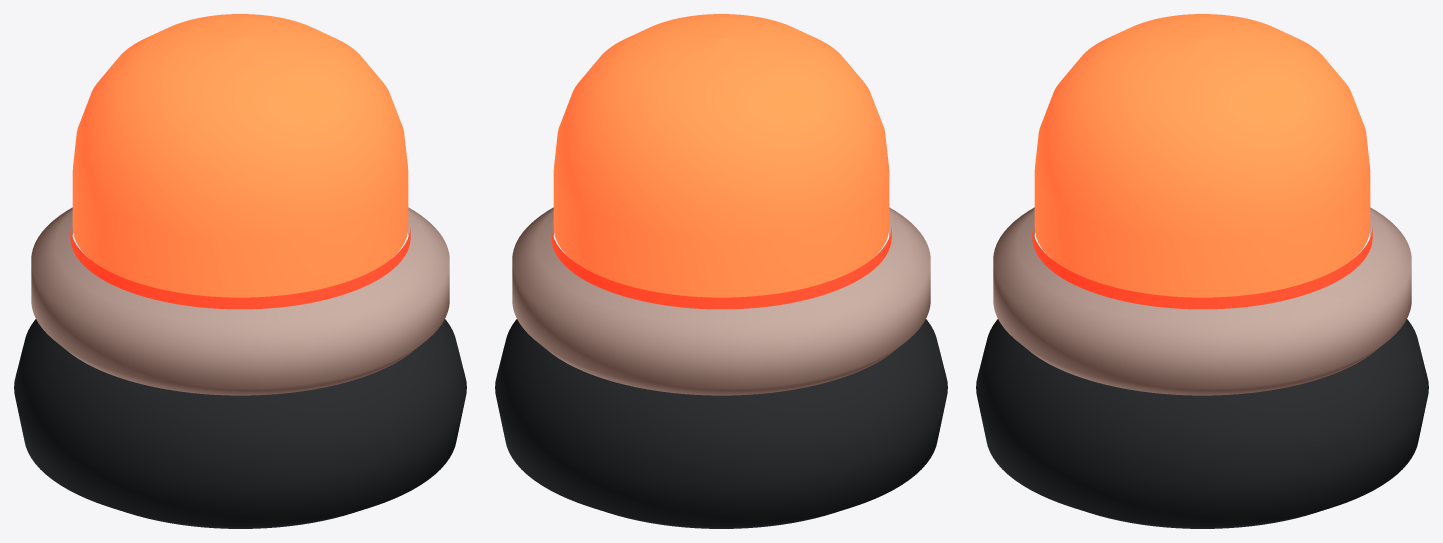
The model's file is BigRedButtonGlowLevel29.glb.
3 views of the same model, side by side, from view 1: azimuth 30°, elevation 25°; view 2: azimuth 150°, elevation 25°; view 3: azimuth 270°, elevation 25° (orthographic).
Parts seen in each view (by area): view 1: button, button_base, metal_bezel, cap_side_shadow; view 2: button, button_base, metal_bezel, cap_side_shadow; view 3: button, button_base, metal_bezel, cap_side_shadow.
Part boxes in pixels (box(x1,y1,x2,y2)): button: box(72, 14, 408, 297); button_base: box(14, 319, 466, 528); metal_bezel: box(31, 207, 449, 395); cap_side_shadow: box(70, 228, 410, 309); button: box(553, 14, 889, 297); button_base: box(495, 319, 947, 528); metal_bezel: box(512, 207, 930, 395); cap_side_shadow: box(551, 228, 891, 309); button: box(1034, 14, 1370, 297); button_base: box(976, 319, 1428, 528); metal_bezel: box(993, 207, 1411, 395); cap_side_shadow: box(1032, 228, 1372, 309).
Size of the model in its own units: 0.0185 by 0.0185 by 0.0185.
